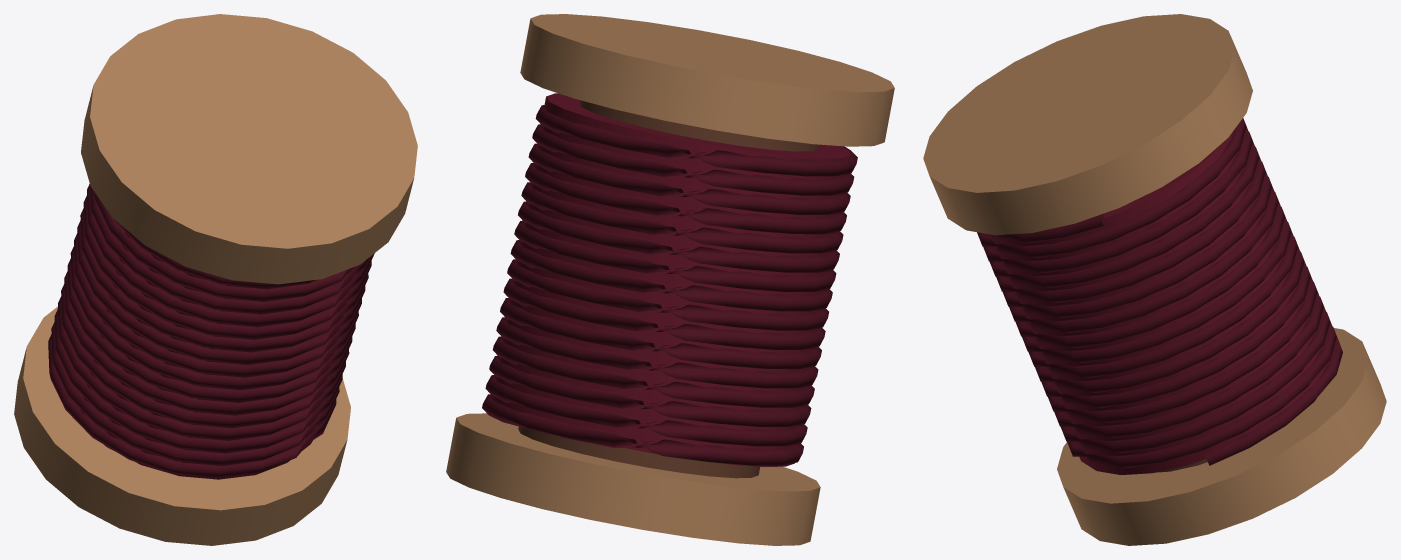
The model's file is SM_Menu_ThreadSpool.fbx.
The picture shows the model from 3 angles, left to right: view 1: azimuth 30°, elevation 25°; view 2: azimuth 150°, elevation 25°; view 3: azimuth 270°, elevation 25°; orthographic projection. The views are drawn at different scales.
Parts seen in each view (by area): view 1: Thread spool.004_Baked; view 2: Thread spool.004_Baked; view 3: Thread spool.004_Baked.
Boxes of the visible parts, x1=… form: Thread spool.004_Baked: x1=14, y1=14, x2=417, y2=545; Thread spool.004_Baked: x1=446, y1=14, x2=894, y2=545; Thread spool.004_Baked: x1=923, y1=14, x2=1386, y2=545.
Bounding box in the file's own units: 19.8 × 27.72 × 30.56.
